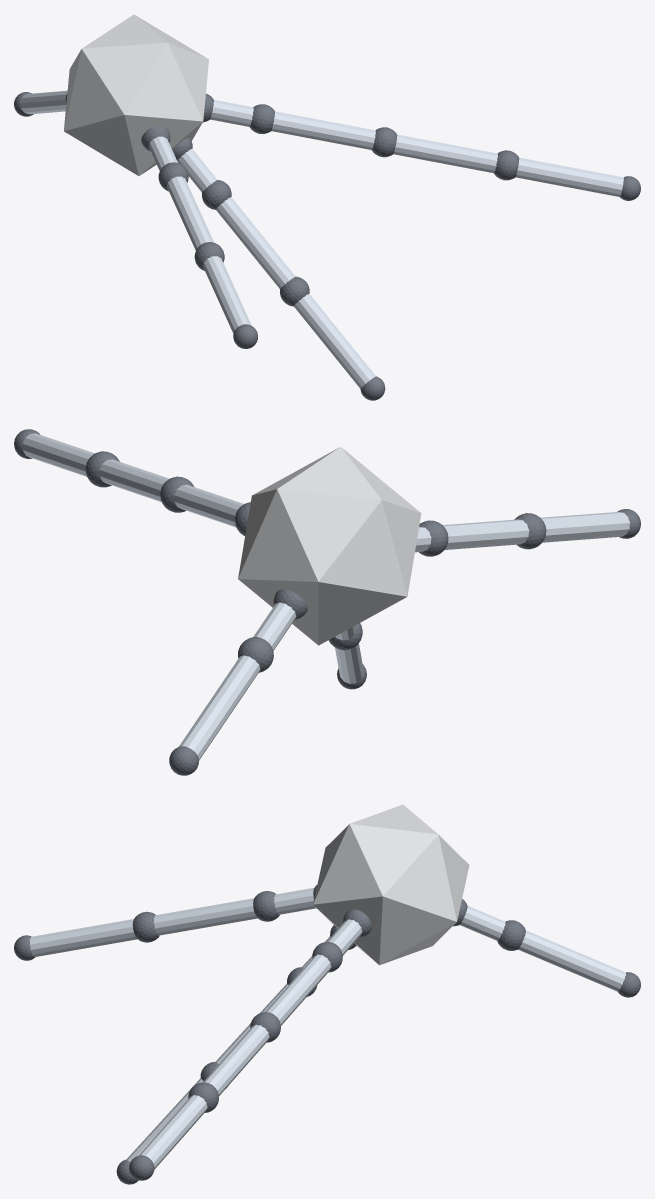
File: g0_4332_1_abs.glb
The picture shows the model from 3 angles, top to bottom: view 1: azimuth 30°, elevation 25°; view 2: azimuth 150°, elevation 25°; view 3: azimuth 270°, elevation 25°; orthographic projection. The views are drawn at different scales.
Parts seen in each view (by area): view 1: geom_0, geom_27, geom_11, geom_23, geom_25, geom_9, geom_18, geom_16, geom_4, geom_21, geom_7, geom_26 (+5 smaller); view 2: geom_0, geom_4, geom_18, geom_16, geom_27, geom_25, geom_23, geom_2, geom_11, geom_3, geom_5, geom_17 (+4 smaller); view 3: geom_0, geom_4, geom_18, geom_16, geom_27, geom_23, geom_25, geom_2, geom_14, geom_21, geom_3, geom_15 (+2 smaller).
Boxes of the visible parts, x1,y1,x2,y2 form: geom_0: (64, 14, 208, 175); geom_27: (515, 157, 623, 196); geom_11: (294, 293, 375, 388); geom_23: (271, 111, 375, 149); geom_25: (393, 134, 497, 173); geom_9: (215, 197, 295, 288); geom_18: (203, 256, 251, 333); geom_16: (167, 176, 213, 250); geom_4: (20, 90, 67, 114); geom_21: (210, 100, 253, 126); geom_7: (177, 148, 217, 192); geom_26: (494, 150, 519, 180); geom_0: (238, 447, 421, 645); geom_4: (179, 655, 260, 760); geom_18: (541, 511, 629, 542); geom_16: (443, 519, 529, 549); geom_27: (22, 433, 94, 476); geom_25: (99, 459, 169, 501); geom_23: (174, 484, 243, 527); geom_2: (253, 602, 296, 650); geom_11: (335, 643, 363, 683); geom_3: (238, 637, 273, 672); geom_5: (169, 746, 198, 775); geom_17: (514, 513, 546, 549); geom_0: (313, 804, 469, 965); geom_4: (518, 930, 625, 991); geom_18: (29, 919, 136, 956); geom_16: (154, 898, 257, 935); geom_27: (139, 1095, 207, 1169); geom_23: (265, 954, 331, 1025); geom_25: (203, 1024, 269, 1095); geom_2: (460, 906, 505, 940); geom_14: (274, 887, 315, 914); geom_21: (327, 919, 362, 955); geom_3: (497, 920, 525, 950); geom_15: (253, 891, 279, 921).
Bounding box in the file's own units: 0.511 × 0.3207 × 0.5868.
